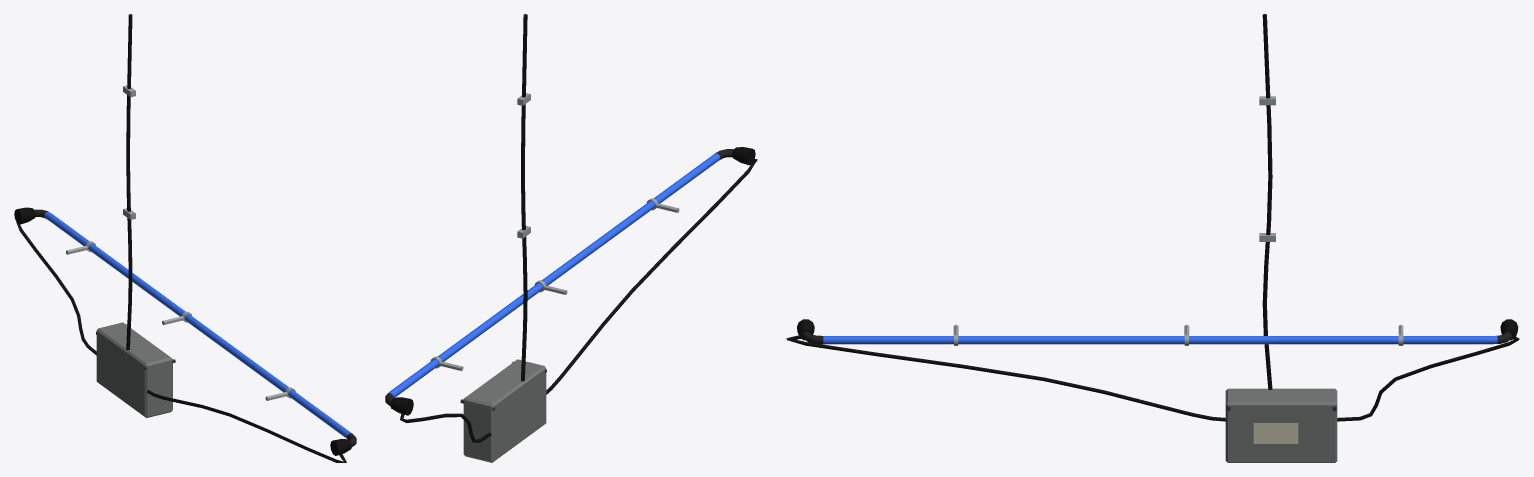
File: neon_tube@2.glb
3 views of the same model, side by side, from view 1: azimuth 30°, elevation 25°; view 2: azimuth 150°, elevation 25°; view 3: azimuth 270°, elevation 25° (orthographic). The views are drawn at different scales.
Visible parts, largest first — view 1: teil4, teil0, teil7, teil2, teil3; view 2: teil4, teil7, teil0, teil2, teil3; view 3: teil4, teil0, teil7, teil5.
Boxes of the visible parts, left/top/right/bottom form: teil4: left=96, top=322, right=172, bottom=417; teil0: left=44, top=212, right=351, bottom=438; teil7: left=16, top=14, right=346, bottom=462; teil2: left=14, top=207, right=351, bottom=455; teil3: left=66, top=241, right=295, bottom=400; teil4: left=463, top=359, right=546, bottom=462; teil7: left=400, top=14, right=757, bottom=442; teil0: left=388, top=153, right=720, bottom=397; teil2: left=390, top=147, right=755, bottom=415; teil3: left=430, top=198, right=679, bottom=370; teil4: left=1225, top=388, right=1337, bottom=462; teil0: left=823, top=335, right=1497, bottom=344; teil7: left=786, top=14, right=1519, bottom=421; teil5: left=1253, top=423, right=1298, bottom=443.
Size of the model in its own units: 0.07 by 0.8601 by 1.31.
